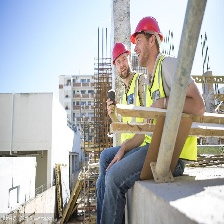helmet: (131, 16, 166, 46), (109, 41, 133, 66)
person: (129, 10, 208, 171), (102, 37, 133, 179)
